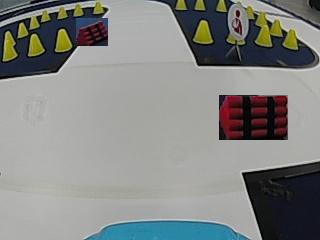cone: (193, 20, 213, 44), (2, 32, 17, 60), (54, 29, 72, 52), (255, 22, 272, 46), (28, 34, 45, 56), (282, 28, 298, 50), (270, 19, 282, 35), (91, 1, 104, 14), (17, 22, 28, 37), (73, 3, 84, 16), (29, 15, 40, 28), (57, 6, 67, 19), (216, 0, 227, 11), (175, 0, 187, 10), (40, 9, 50, 21), (194, 0, 205, 10)
patient: (229, 4, 247, 38)
